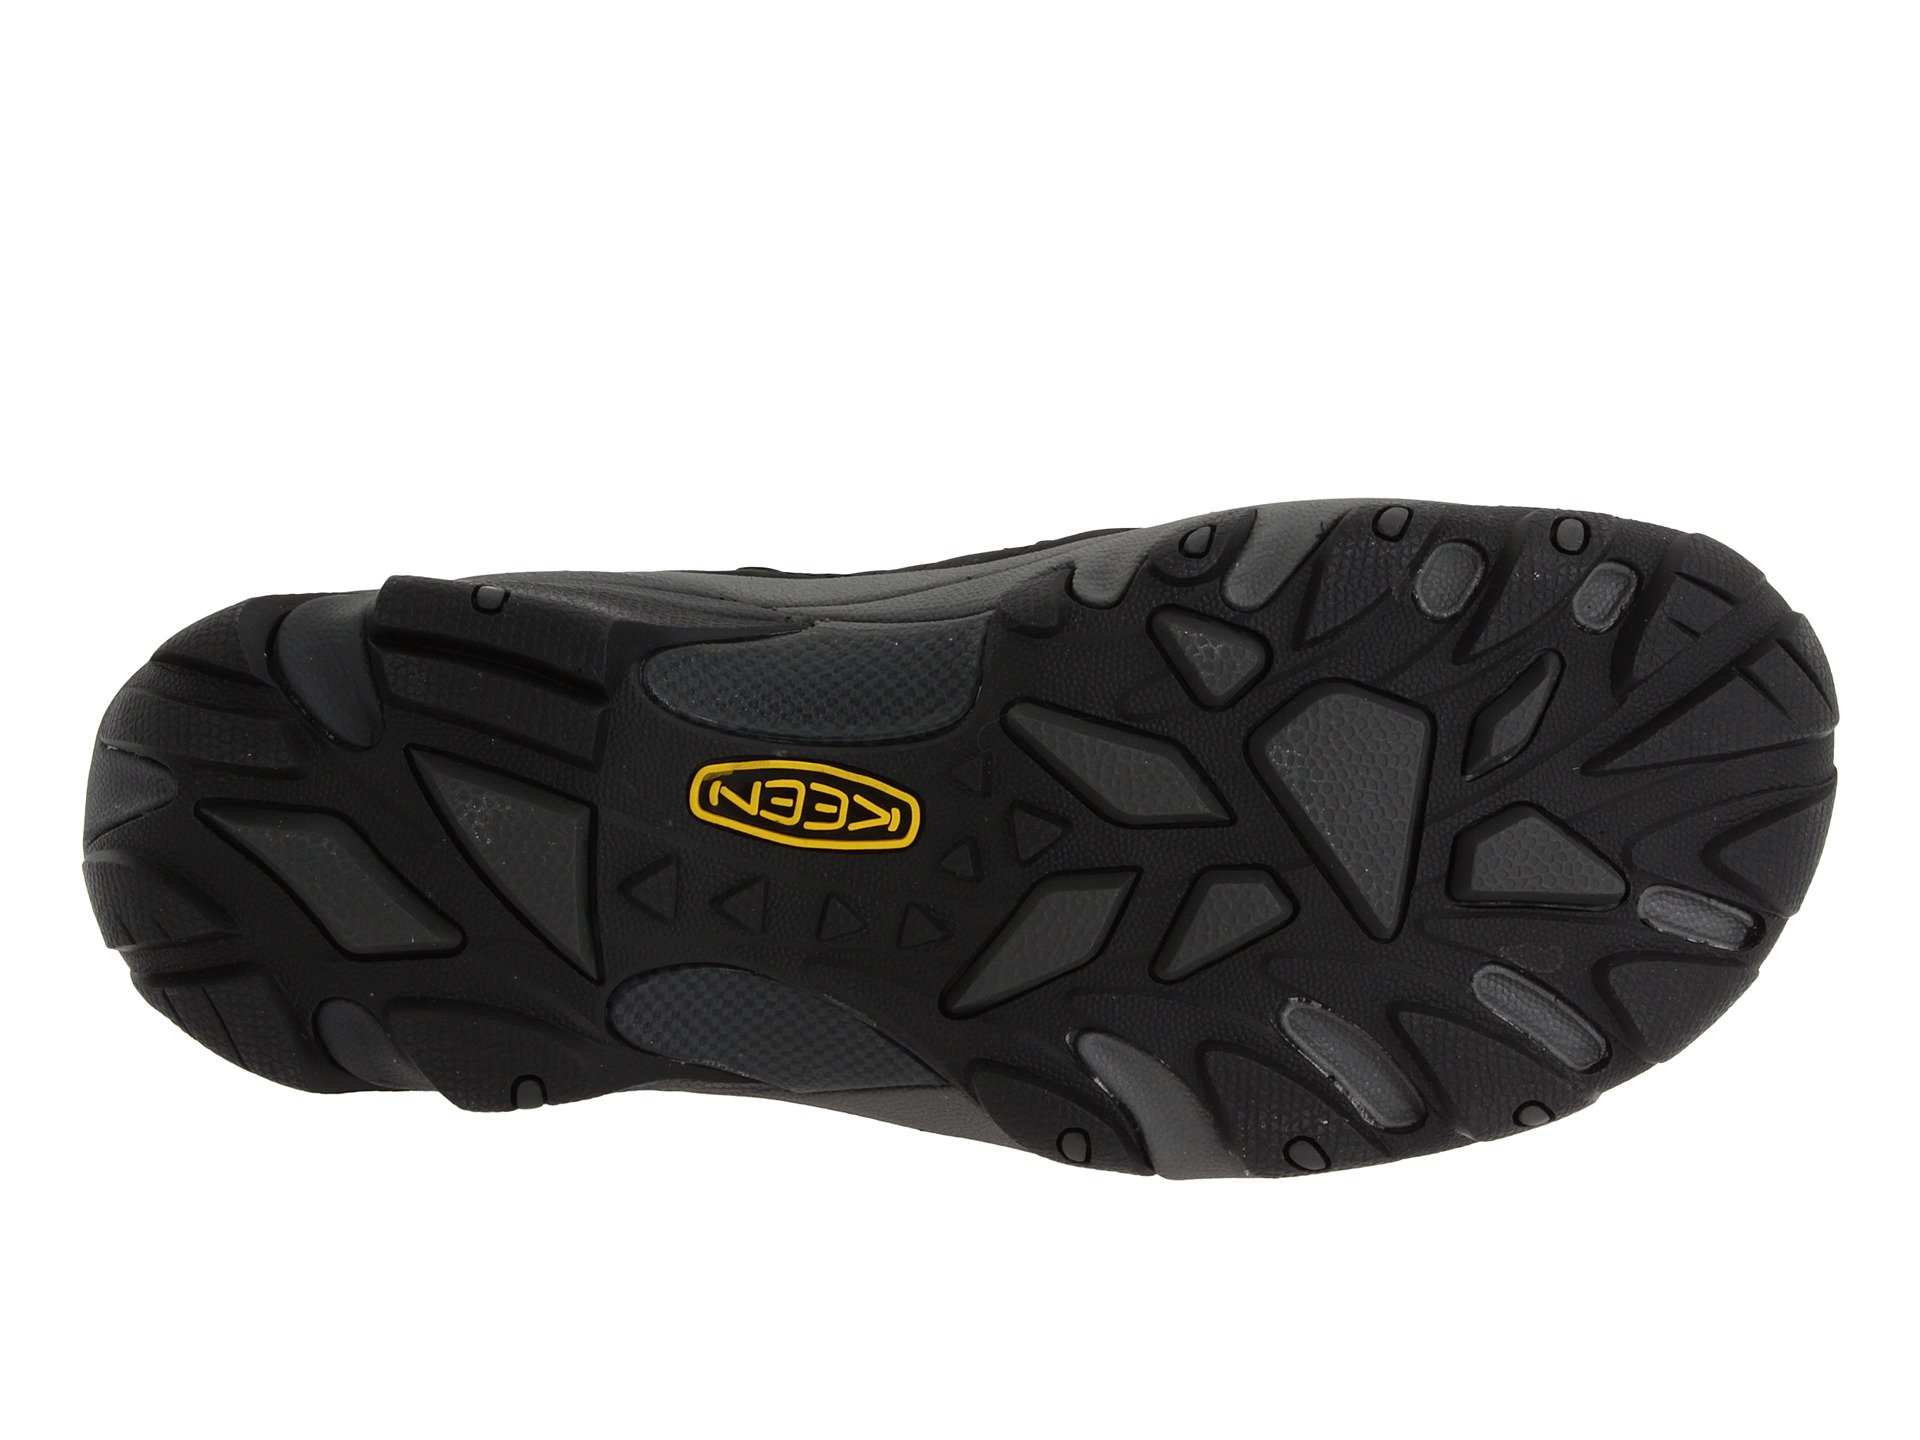text: (708, 272, 795, 358), (623, 269, 686, 346)
triangle: (668, 371, 782, 492), (800, 360, 906, 473), (531, 351, 639, 455), (924, 296, 999, 386)
